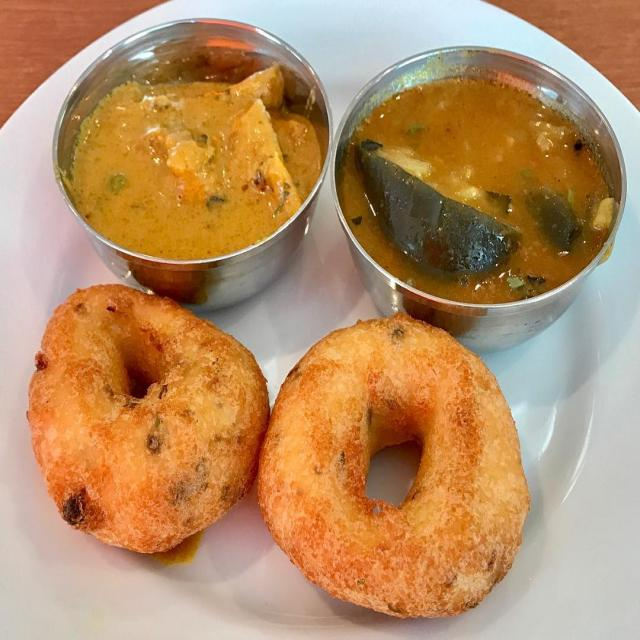Wet Waste: (261, 328, 527, 624), (26, 282, 272, 541), (340, 64, 602, 298), (68, 60, 341, 268)
